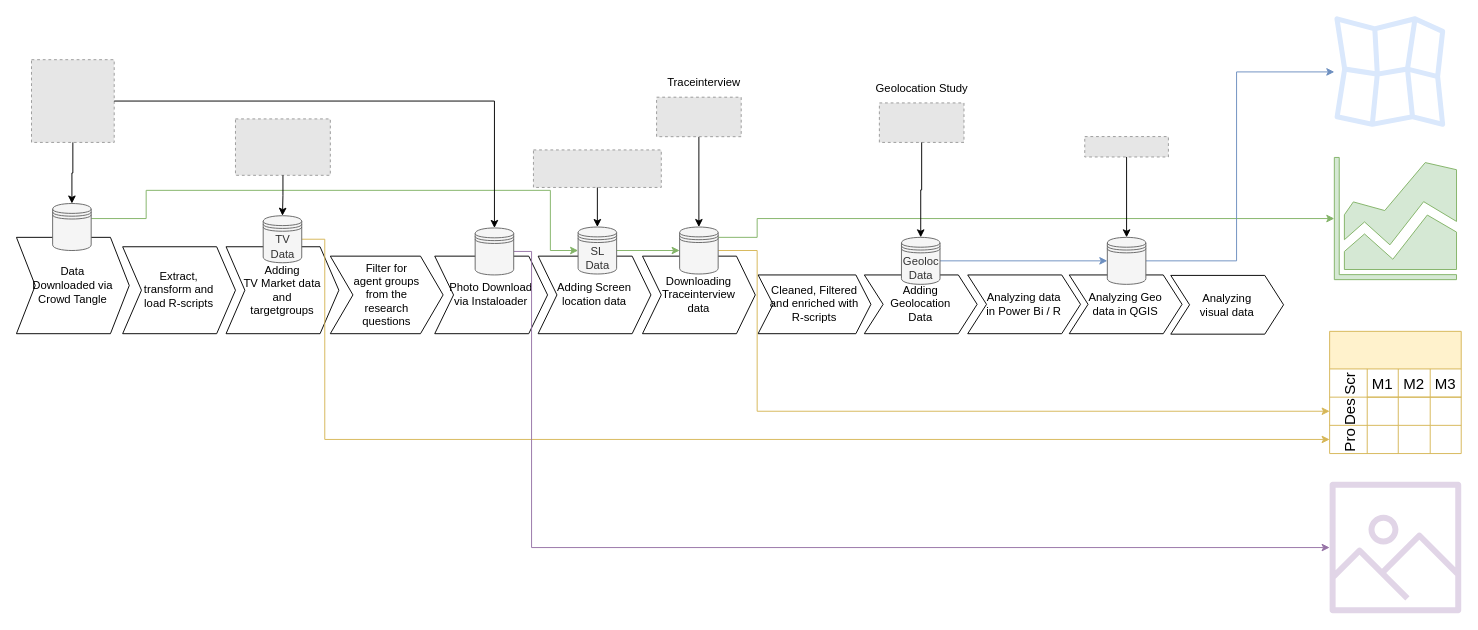
This 1478x630 diagram has some shape labels left out. Grey dashed boxes stand in for pictures. The shapes that lost their labels are listed below. From the top down, each one's box as (x1, y1, x2, y2) in pixels, then its label:
(52, 203, 91, 251): CT Data
(474, 227, 514, 275): Photo Data
(679, 226, 718, 274): Interv. Data
(1106, 236, 1146, 284): Map Data
(1329, 330, 1461, 454): Table
